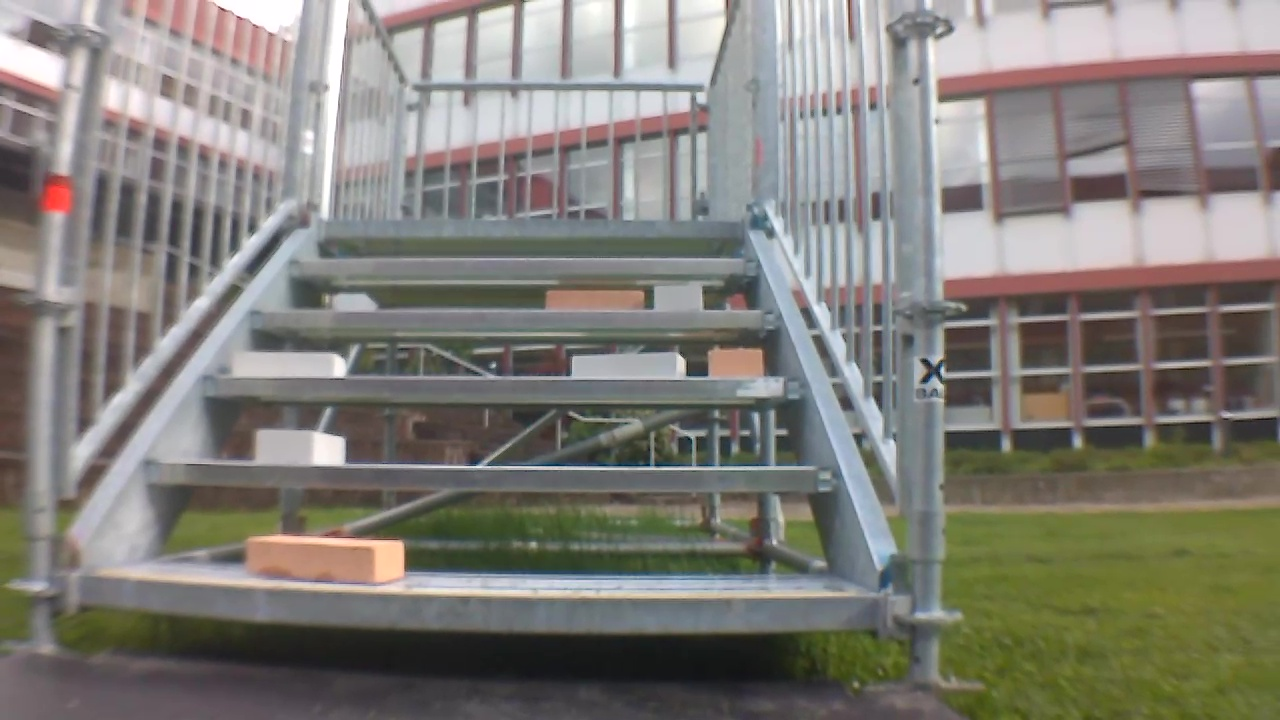brick: (247, 536, 402, 583), (257, 430, 344, 463), (572, 352, 684, 377), (232, 353, 344, 377), (550, 290, 642, 310), (710, 350, 762, 376), (655, 284, 701, 309)
edge: (76, 574, 885, 632), (148, 460, 836, 492), (204, 375, 809, 399), (249, 309, 778, 328), (321, 217, 747, 239), (287, 258, 758, 276)
stairs: (16, 2, 966, 688)
steps: (70, 206, 898, 646)
